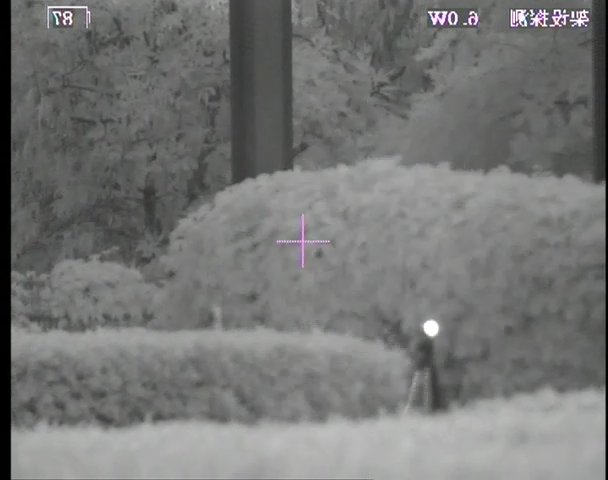my: (422, 318, 439, 339)
